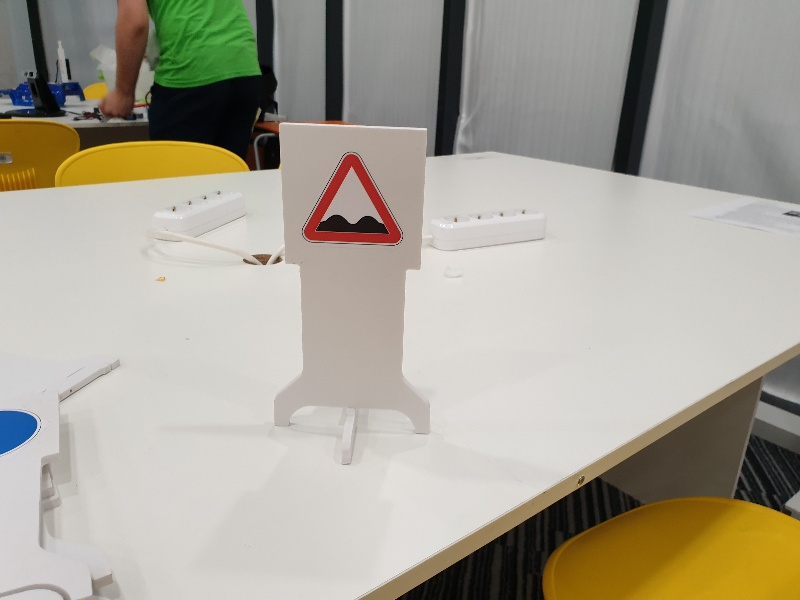Nerov: (295, 147, 411, 252)
